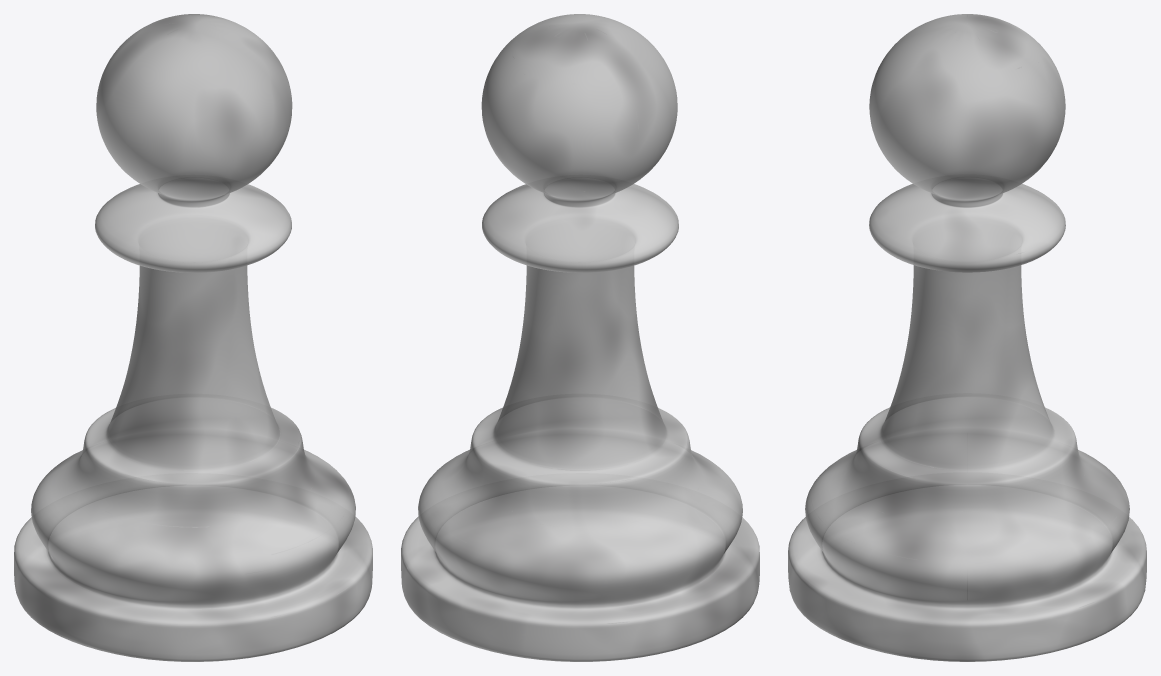
The model's file is Peon_Regular.glb.
3 views of the same model, side by side, from view 1: azimuth 30°, elevation 25°; view 2: azimuth 150°, elevation 25°; view 3: azimuth 270°, elevation 25° (orthographic).
Parts seen in each view (by area): view 1: PAWN; view 2: PAWN; view 3: PAWN.
Boxes of the visible parts, bbox=[...] form: PAWN: bbox=[14, 14, 372, 661]; PAWN: bbox=[401, 14, 759, 661]; PAWN: bbox=[788, 14, 1146, 661].
Bounding box in the file's own units: 0.0347 × 0.06 × 0.0345.
1 material, 1 textured.
